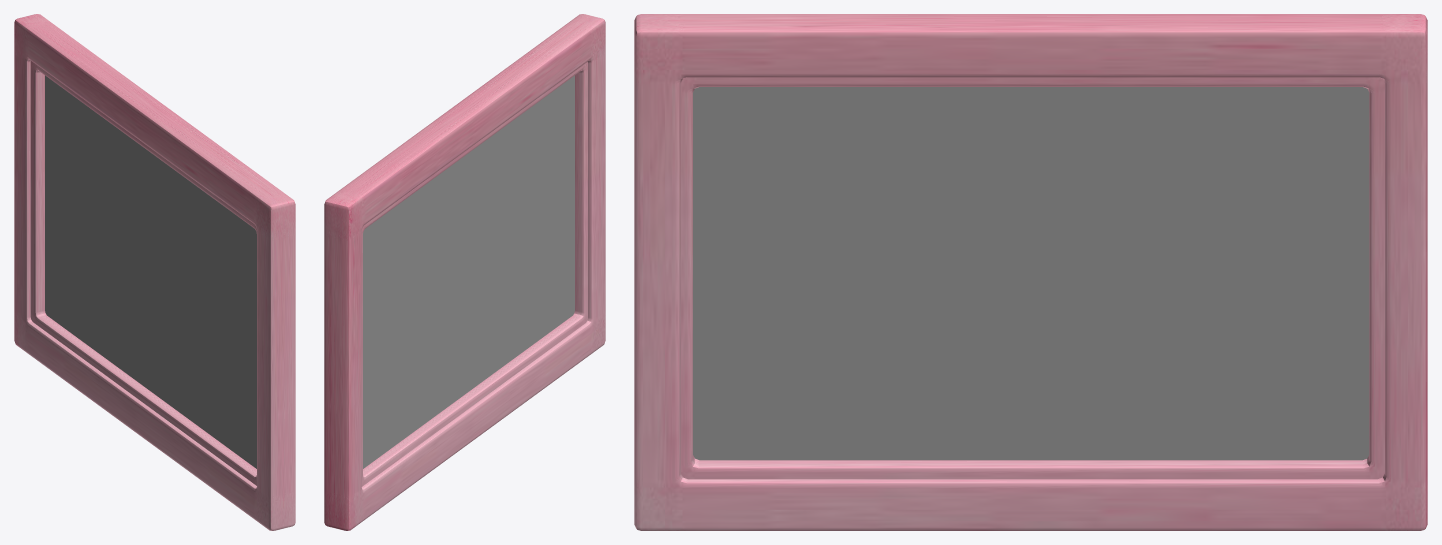
Rendered from photoframe.fbx.
3 views of the same model, side by side, from view 1: azimuth 30°, elevation 25°; view 2: azimuth 150°, elevation 25°; view 3: azimuth 270°, elevation 25° (orthographic). The views are drawn at different scales.
Visible parts, largest first — view 1: pPlane1, pCube1, pCube2; view 2: pPlane1, pCube1, pCube2; view 3: pPlane1, pCube1, pCube2.
Boxes of the visible parts, bbox=[...] form: pPlane1: bbox=[45, 75, 256, 468]; pCube1: bbox=[14, 14, 295, 530]; pCube2: bbox=[30, 61, 257, 485]; pPlane1: bbox=[363, 75, 574, 468]; pCube1: bbox=[324, 14, 605, 530]; pCube2: bbox=[361, 62, 587, 486]; pPlane1: bbox=[693, 87, 1369, 460]; pCube1: bbox=[634, 14, 1427, 530]; pCube2: bbox=[681, 77, 1384, 479].
Size of the model in its own units: 0.233 by 2.72 by 3.9.
2 materials, 1 textured.
